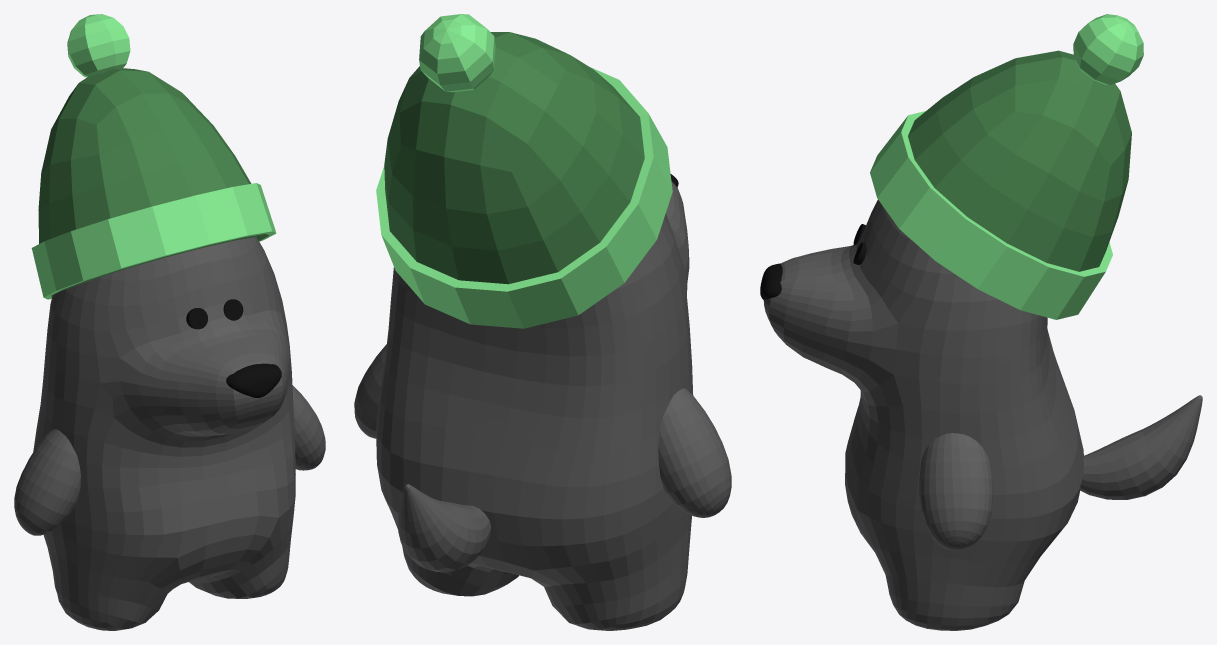
The model's file is beanie.fbx.
The picture shows the model from 3 angles, left to right: view 1: azimuth 30°, elevation 25°; view 2: azimuth 150°, elevation 25°; view 3: azimuth 270°, elevation 25°; orthographic projection. The views are drawn at different scales.
Parts seen in each view (by area): view 1: Wolf Body, winter hat; view 2: Wolf Body, winter hat; view 3: Wolf Body, winter hat.
Part boxes in pixels (bbox=[...]): Wolf Body: bbox=[14, 237, 325, 630]; winter hat: bbox=[31, 14, 276, 299]; Wolf Body: bbox=[354, 174, 731, 630]; winter hat: bbox=[376, 14, 672, 328]; Wolf Body: bbox=[760, 200, 1202, 630]; winter hat: bbox=[870, 14, 1143, 319].
Bounding box in the file's own units: 114 × 191 × 135.
